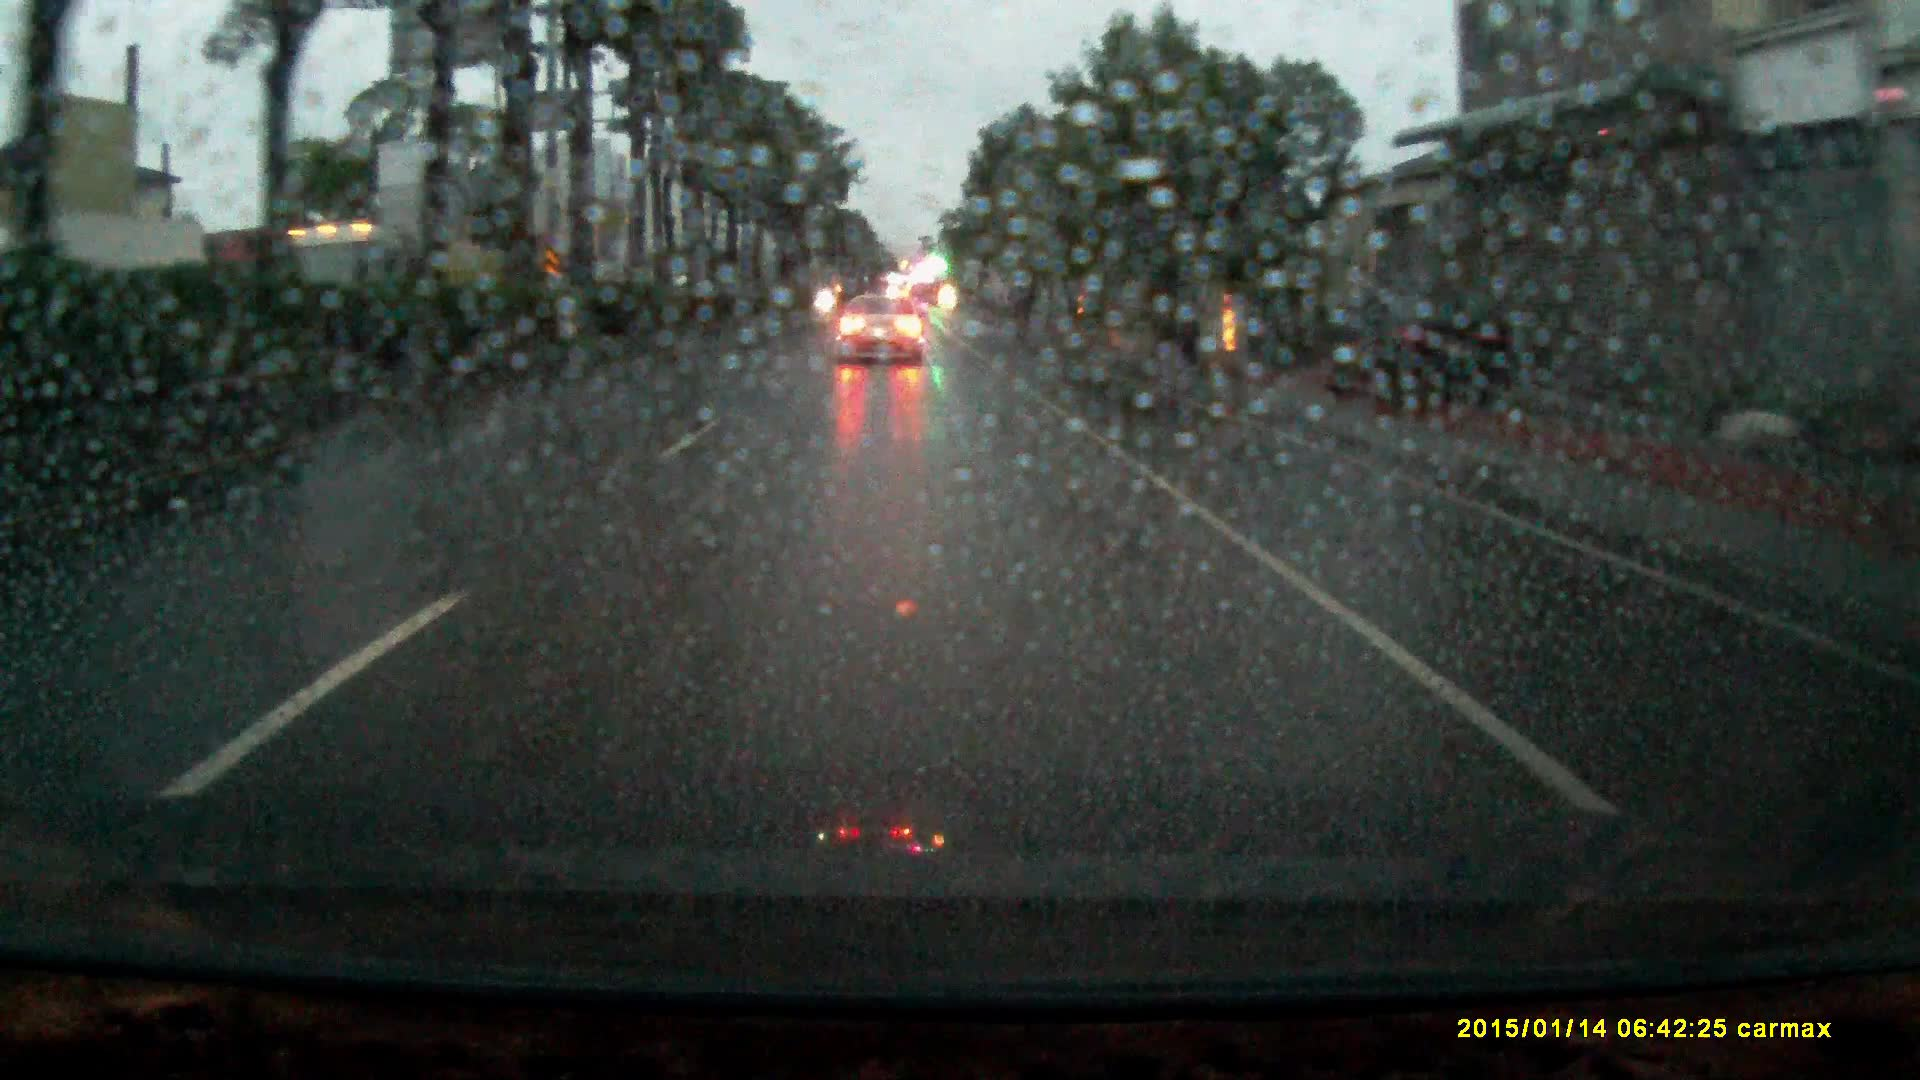vehicle: (253, 225, 502, 351), (1328, 291, 1510, 413), (833, 302, 927, 372)
